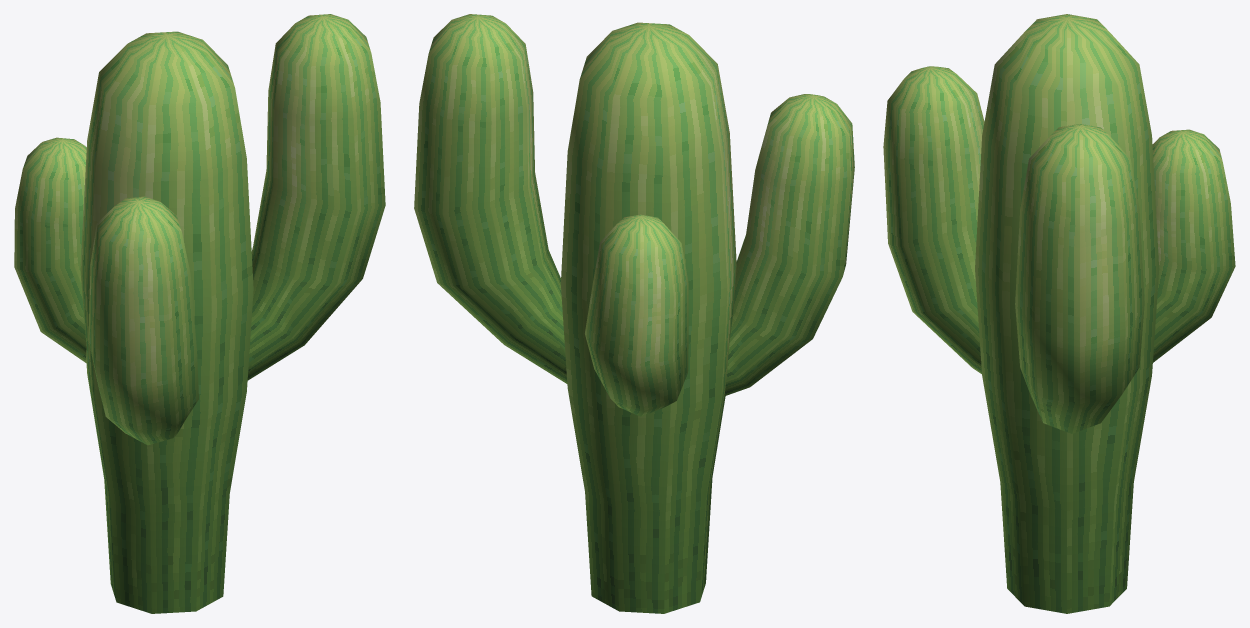
File: Cactus.fbx
The picture shows the model from 3 angles, left to right: view 1: azimuth 30°, elevation 25°; view 2: azimuth 150°, elevation 25°; view 3: azimuth 270°, elevation 25°; orthographic projection. The views are drawn at different scales.
Visible parts, largest first — view 1: Cactus; view 2: Cactus; view 3: Cactus.
Boxes of the visible parts, bbox=[...] form: Cactus: bbox=[14, 14, 385, 613]; Cactus: bbox=[414, 14, 854, 613]; Cactus: bbox=[883, 14, 1235, 613].
Size of the model in its own units: 0.6613 by 0.9941 by 0.5565.
